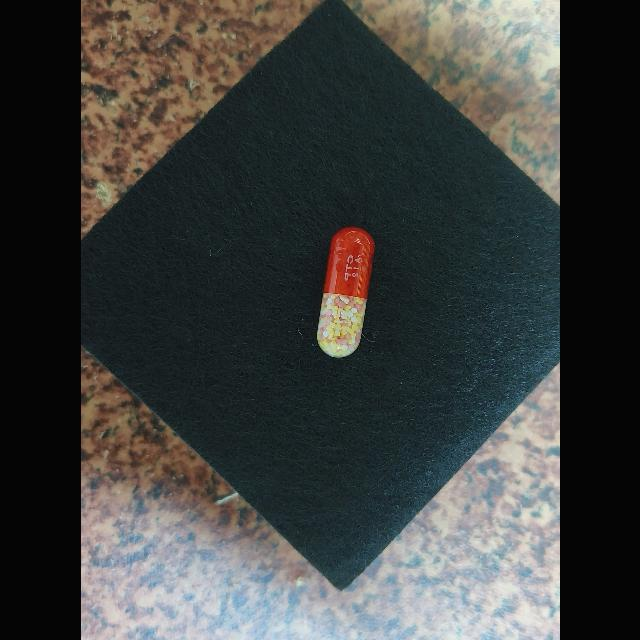Intact Capsule: (317, 227, 375, 358)
